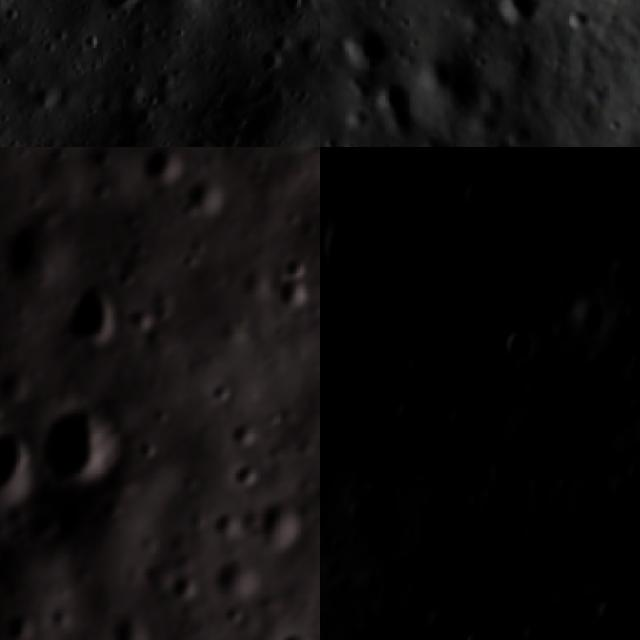crater: (38, 401, 134, 488), (54, 282, 127, 356), (0, 220, 75, 289), (0, 417, 47, 512), (327, 18, 392, 84), (360, 74, 418, 144), (321, 218, 382, 277), (254, 491, 308, 555), (210, 550, 263, 600), (477, 0, 543, 38), (182, 173, 234, 219), (140, 147, 191, 192), (271, 274, 320, 317), (87, 0, 149, 32), (20, 502, 66, 544), (107, 608, 162, 640), (270, 249, 317, 284), (228, 455, 264, 500), (168, 564, 205, 605), (246, 44, 285, 82), (229, 412, 266, 452), (169, 119, 220, 147), (258, 24, 296, 61), (122, 300, 159, 338), (597, 585, 624, 636), (2, 606, 42, 640), (206, 371, 241, 408), (213, 506, 248, 543), (500, 325, 530, 368), (265, 0, 309, 27), (46, 601, 80, 634), (223, 598, 252, 634), (138, 431, 164, 462), (87, 147, 113, 173), (270, 627, 320, 640), (153, 401, 174, 426), (455, 628, 489, 640)
